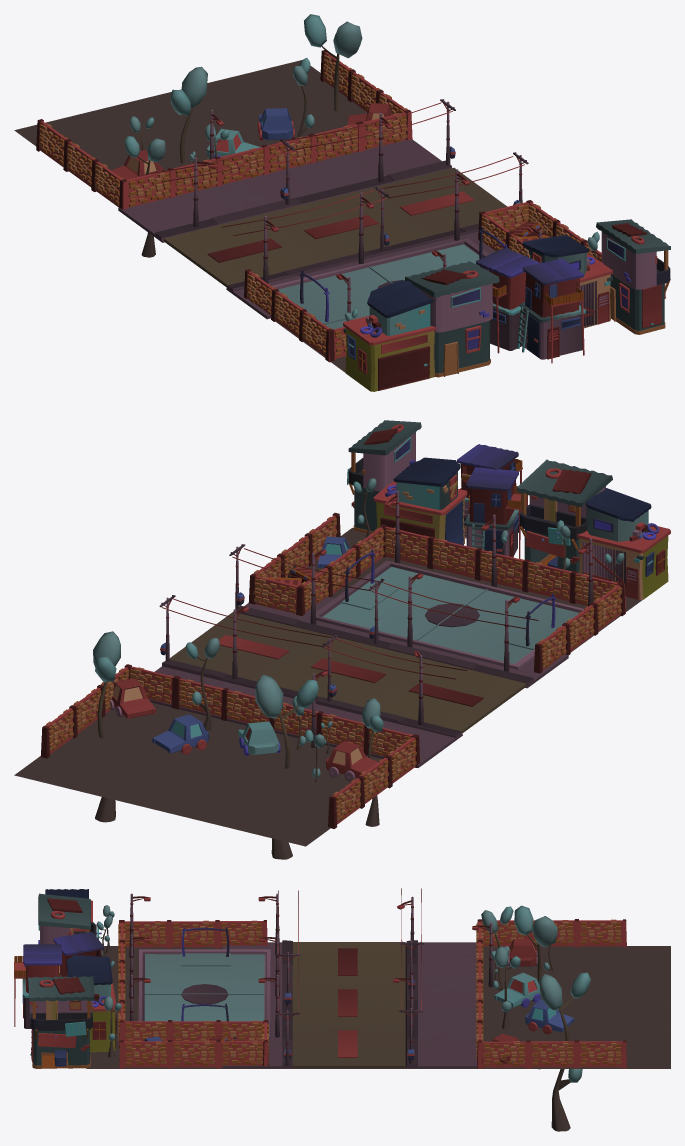
The model's file is MODULOB.fbx.
The picture shows the model from 3 angles, top to bottom: view 1: azimuth 30°, elevation 25°; view 2: azimuth 150°, elevation 25°; view 3: azimuth 270°, elevation 25°; orthographic projection. The views are drawn at different scales.
Parts seen in each view (by area): view 1: MODULOB; view 2: MODULOB; view 3: MODULOB.
Part boxes in pixels (x1,y1,x2,y2): MODULOB: (14, 14, 670, 391); MODULOB: (14, 420, 670, 859); MODULOB: (14, 888, 670, 1131).
Size of the model in its own units: 2540 by 1480 by 5476.
